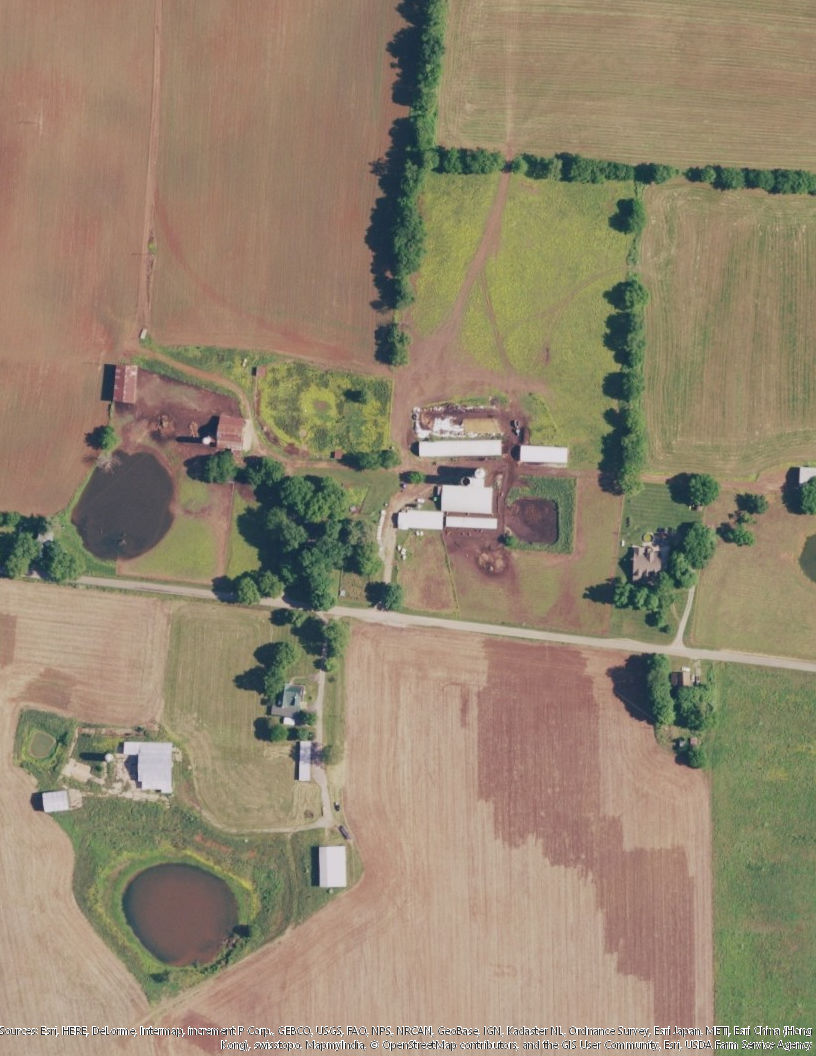cafo: (411, 424, 509, 461), (430, 476, 503, 516), (515, 440, 574, 471), (391, 507, 446, 531), (441, 516, 502, 534)
